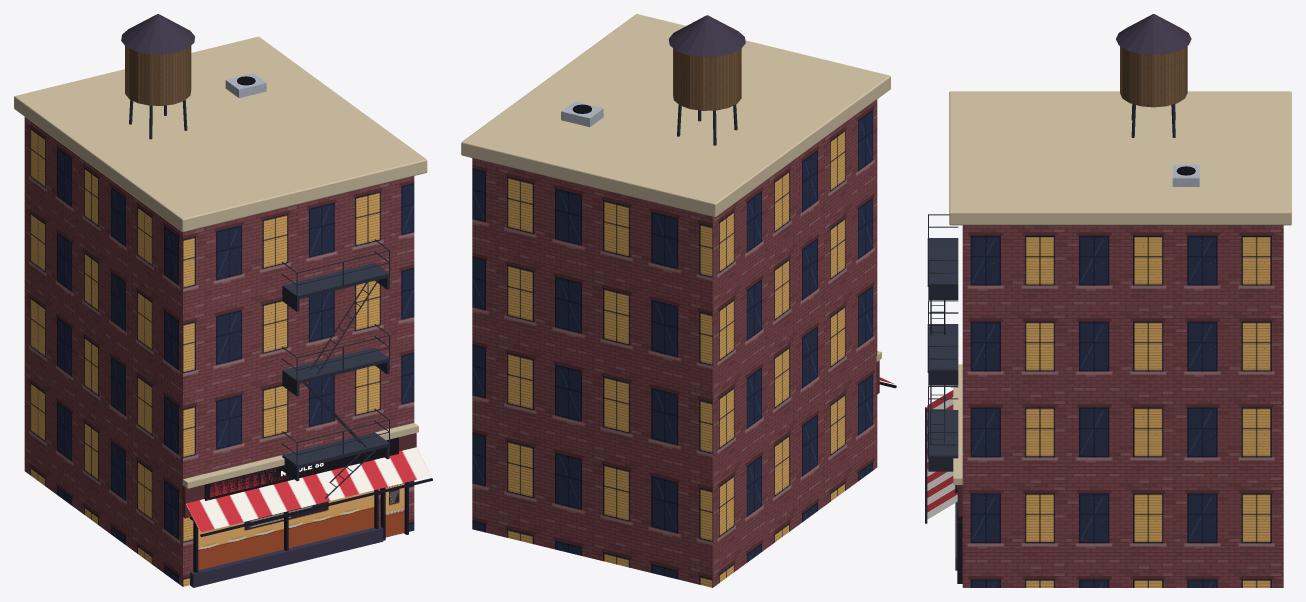
File: brick_walkup.glb
The picture shows the model from 3 angles, left to right: view 1: azimuth 30°, elevation 25°; view 2: azimuth 150°, elevation 25°; view 3: azimuth 270°, elevation 25°; orthographic projection. The views are drawn at different scales.
Parts seen in each view (by area): view 1: brick_walkup; view 2: brick_walkup; view 3: brick_walkup.
Boxes of the visible parts, x1,y1,x2,y2 form: brick_walkup: (14,14,432,587); brick_walkup: (461,14,896,587); brick_walkup: (925,14,1291,587).
Size of the model in its own units: 10.6 by 20.1 by 13.54.
Materials: 18 (8 with a texture image).
